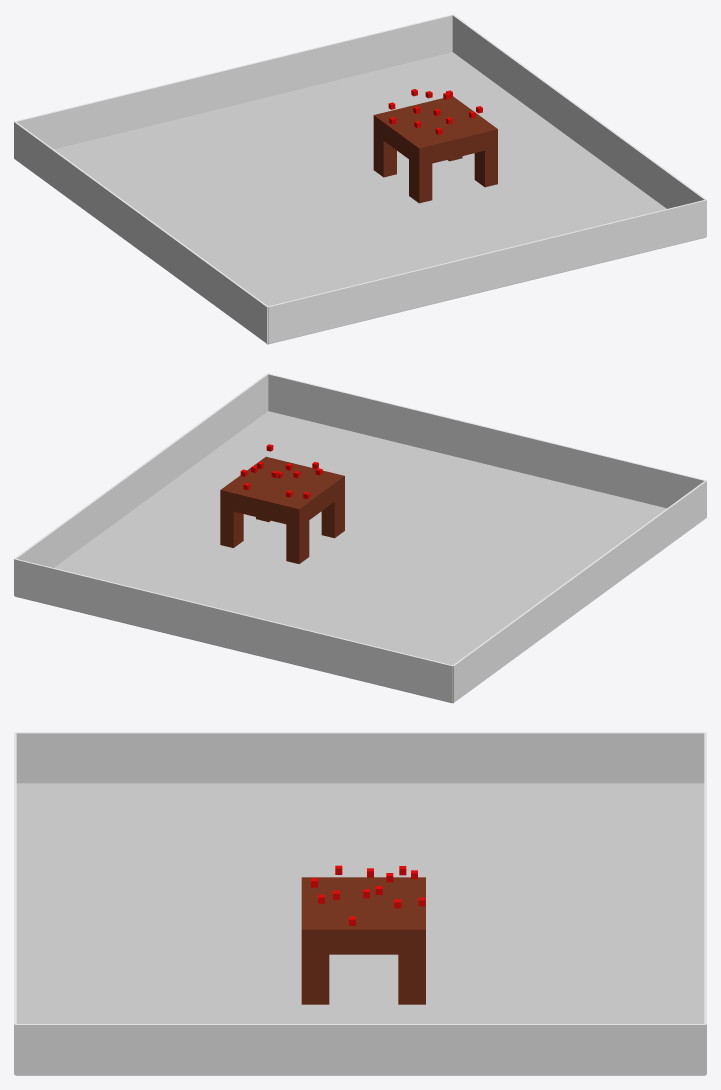
3 views of the same model, one above another, from view 1: azimuth 30°, elevation 25°; view 2: azimuth 150°, elevation 25°; view 3: azimuth 270°, elevation 25° (orthographic). The views are drawn at different scales.
Visible parts, largest first — view 1: _dummylink0_ (×5), base (×4); view 2: _dummylink0_ (×5), base (×4); view 3: _dummylink0_ (×5), base (×3).
Part boxes in pixels (x1,y1,x2,y2): _dummylink0_ (×5): (14,14,706,344); base (×4): (373,96,497,203); _dummylink0_ (×5): (14,373,706,703); base (×4): (220,456,344,563); _dummylink0_ (×5): (14,732,706,1075); base (×3): (301,877,425,1004).
Bounding box in the file's own units: 5.02 × 5.02 × 0.8695.
